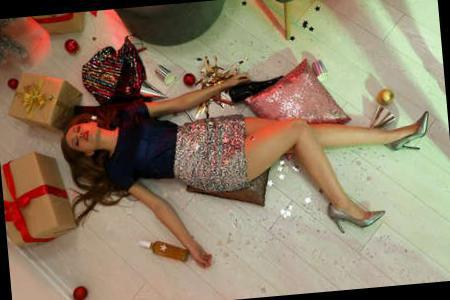Drunk: (68, 123, 99, 148)
